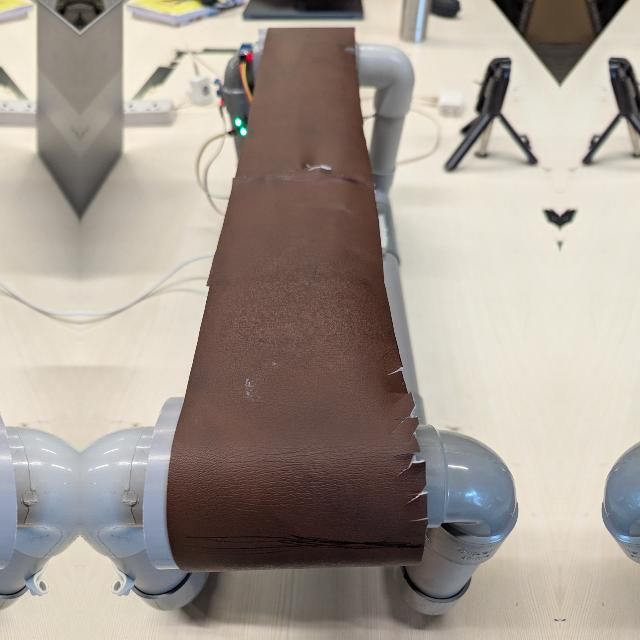edge_damage: (368, 347, 441, 529)
joint_damage: (297, 146, 355, 188)
